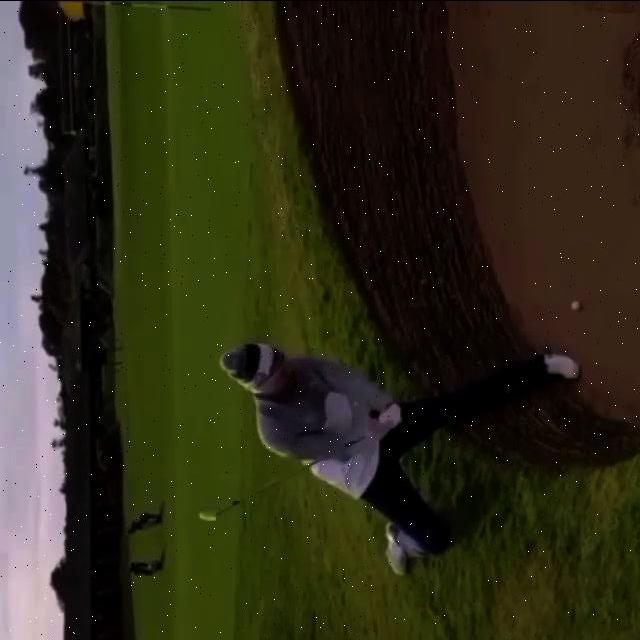golf ball: (571, 300, 581, 309)
golf club-handle: (197, 435, 365, 522)
golf club-head: (197, 509, 218, 520)
